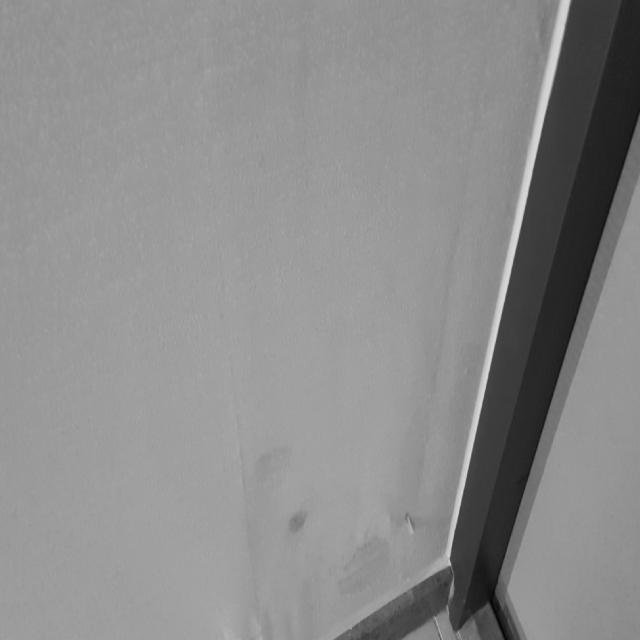stain marks: (256, 440, 454, 606)
